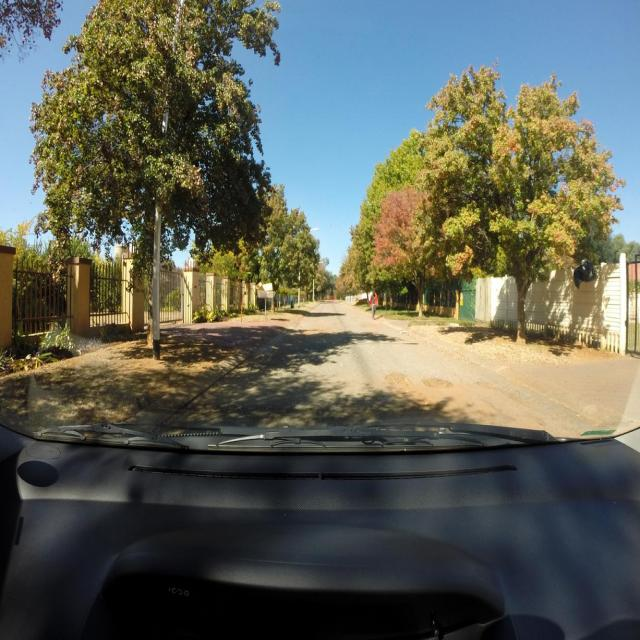Pothole: (385, 372, 412, 386), (422, 378, 454, 388)
